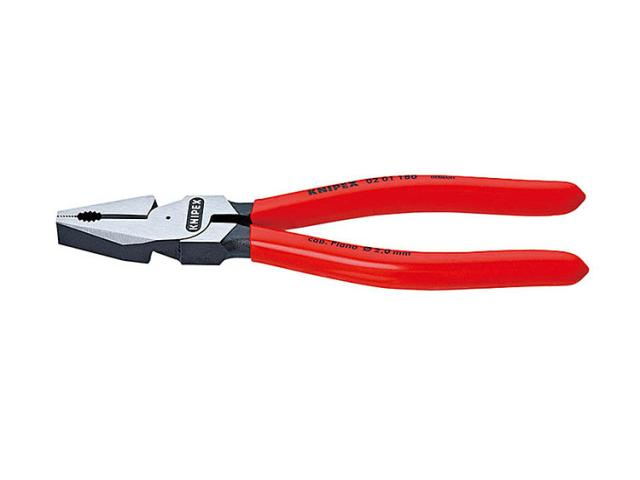Pliers: (56, 175, 589, 288)
